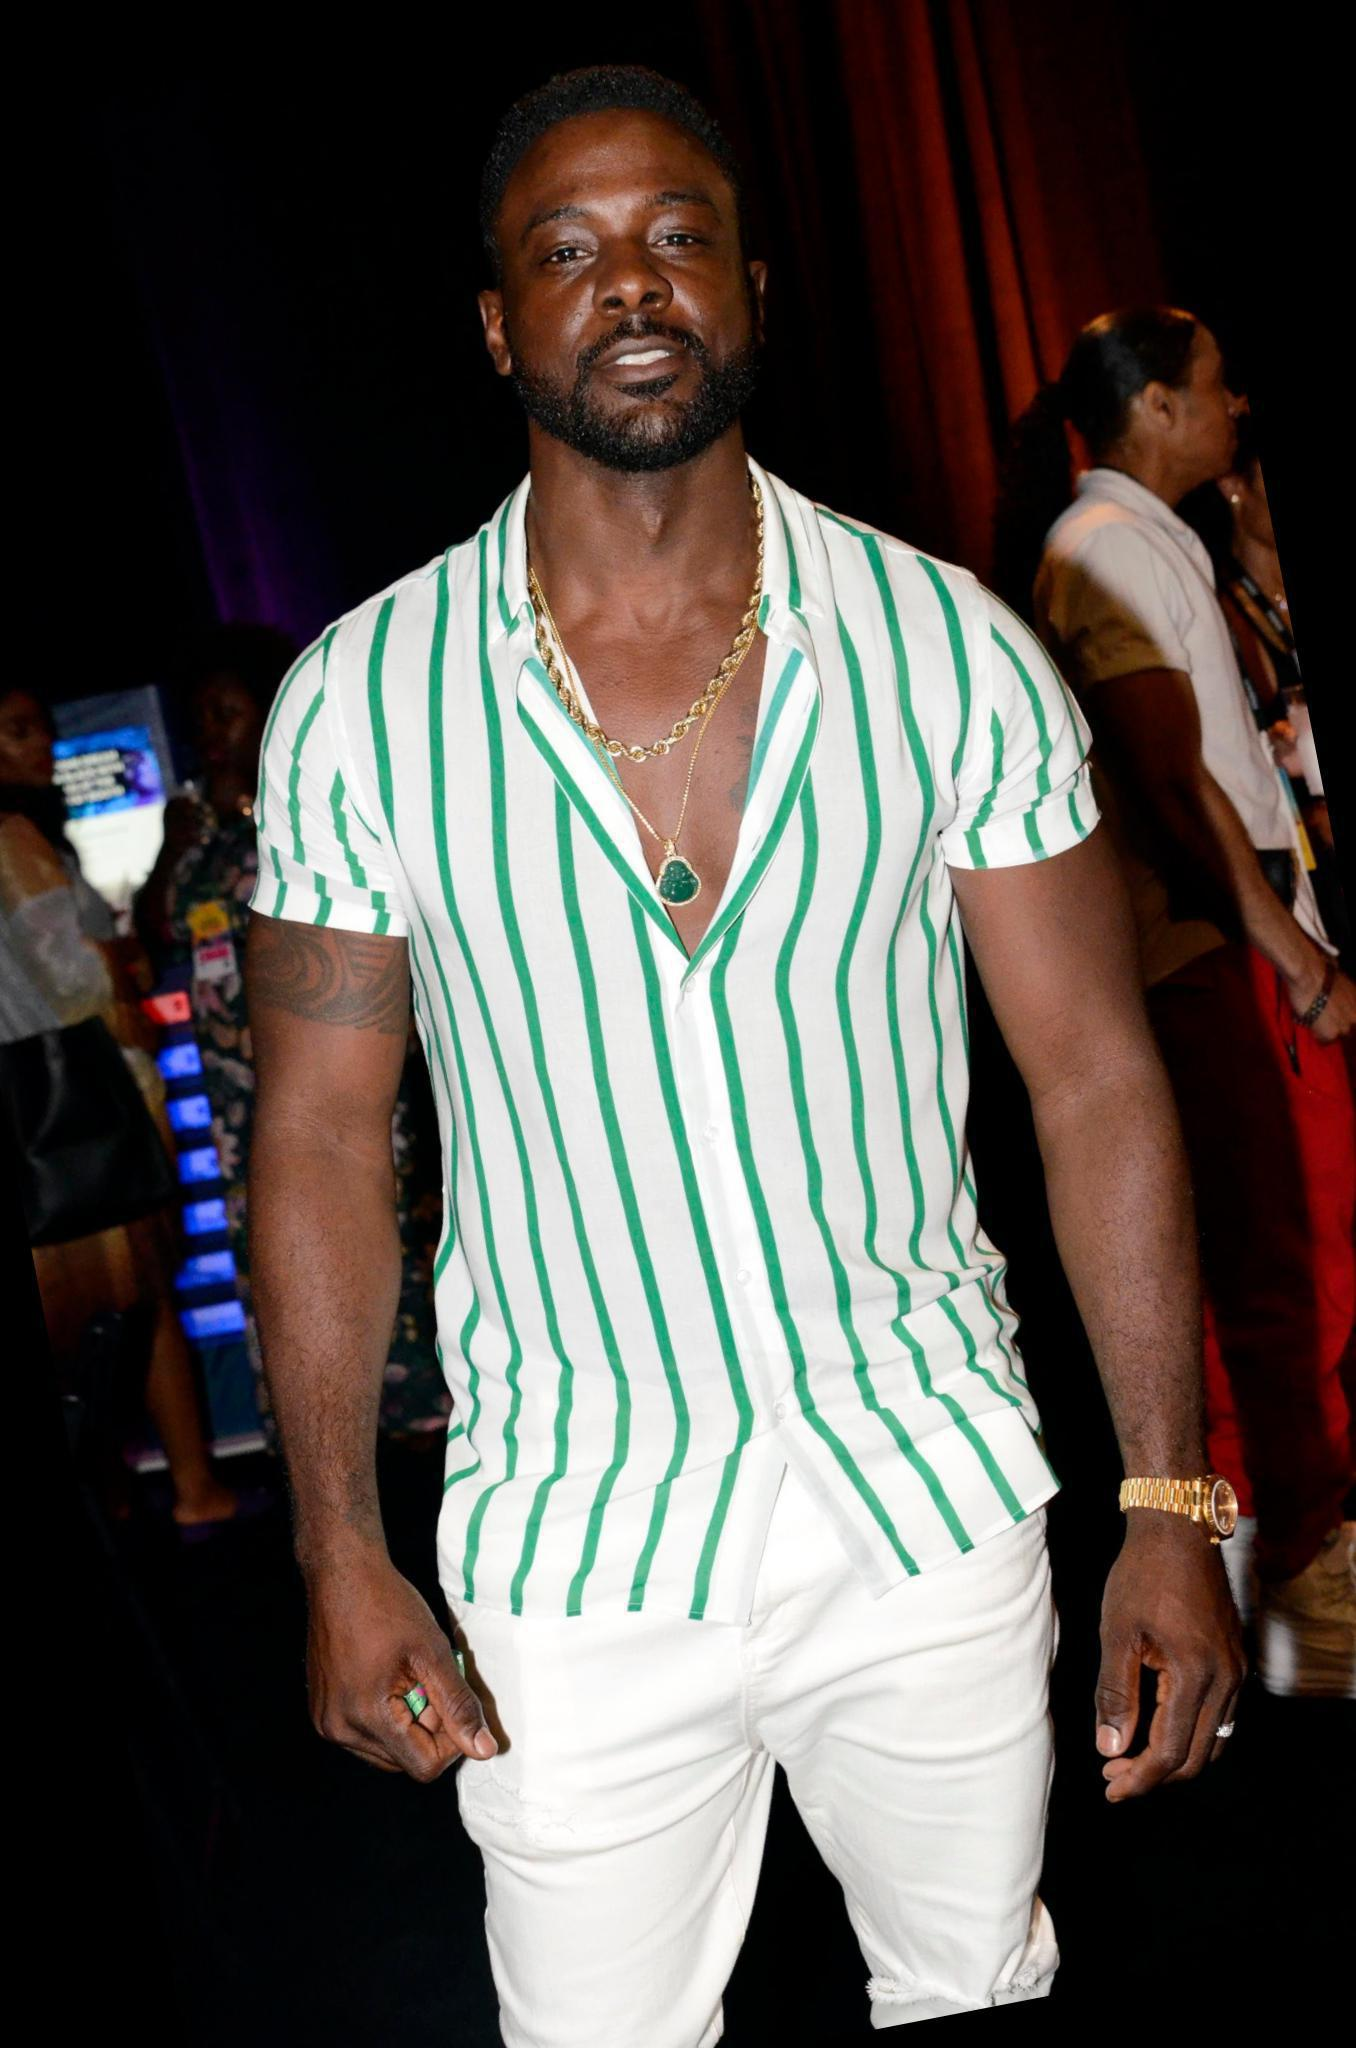Sober: (533, 141, 731, 430)
